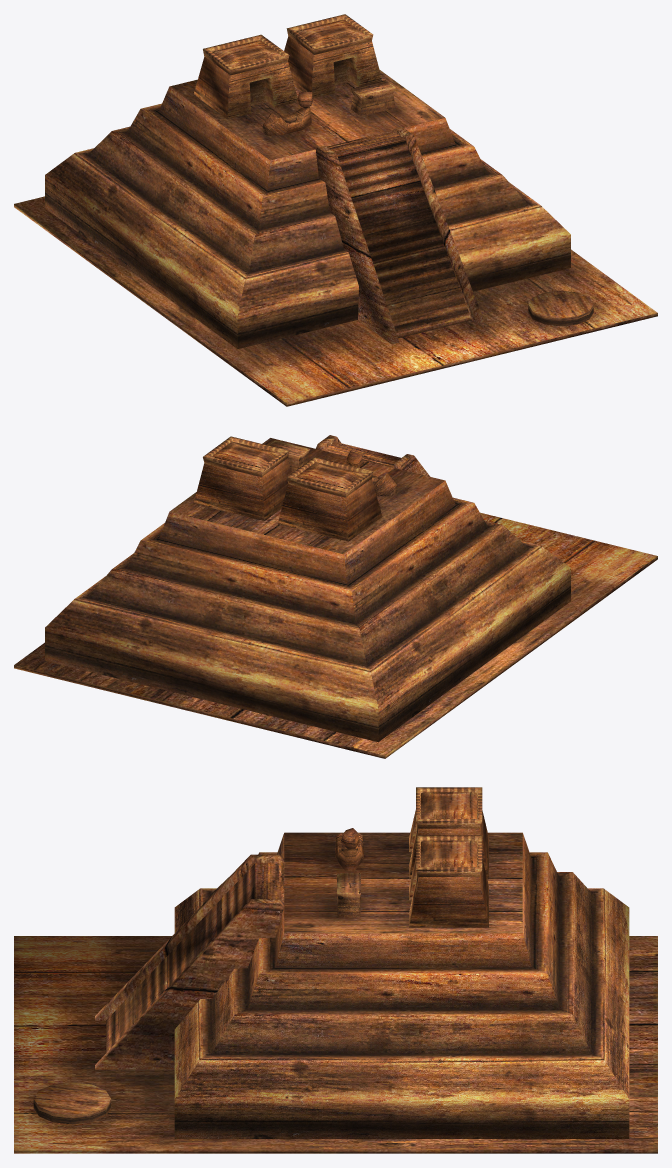
Rendered from aztec_temple_toy.DAE.
The picture shows the model from 3 angles, top to bottom: view 1: azimuth 30°, elevation 25°; view 2: azimuth 150°, elevation 25°; view 3: azimuth 270°, elevation 25°; orthographic projection. The views are drawn at different scales.
Parts seen in each view (by area): view 1: Box002; view 2: Box002; view 3: Box002.
Boxes of the visible parts, x1=… form: Box002: x1=14, y1=14, x2=657, y2=406; Box002: x1=14, y1=435, x2=657, y2=758; Box002: x1=14, y1=787, x2=657, y2=1153.
Size of the model in its own units: 1.39 by 1.76 by 0.6638.
